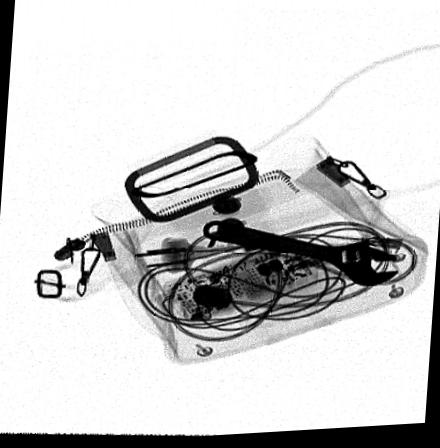Wrench: (202, 221, 402, 292)
